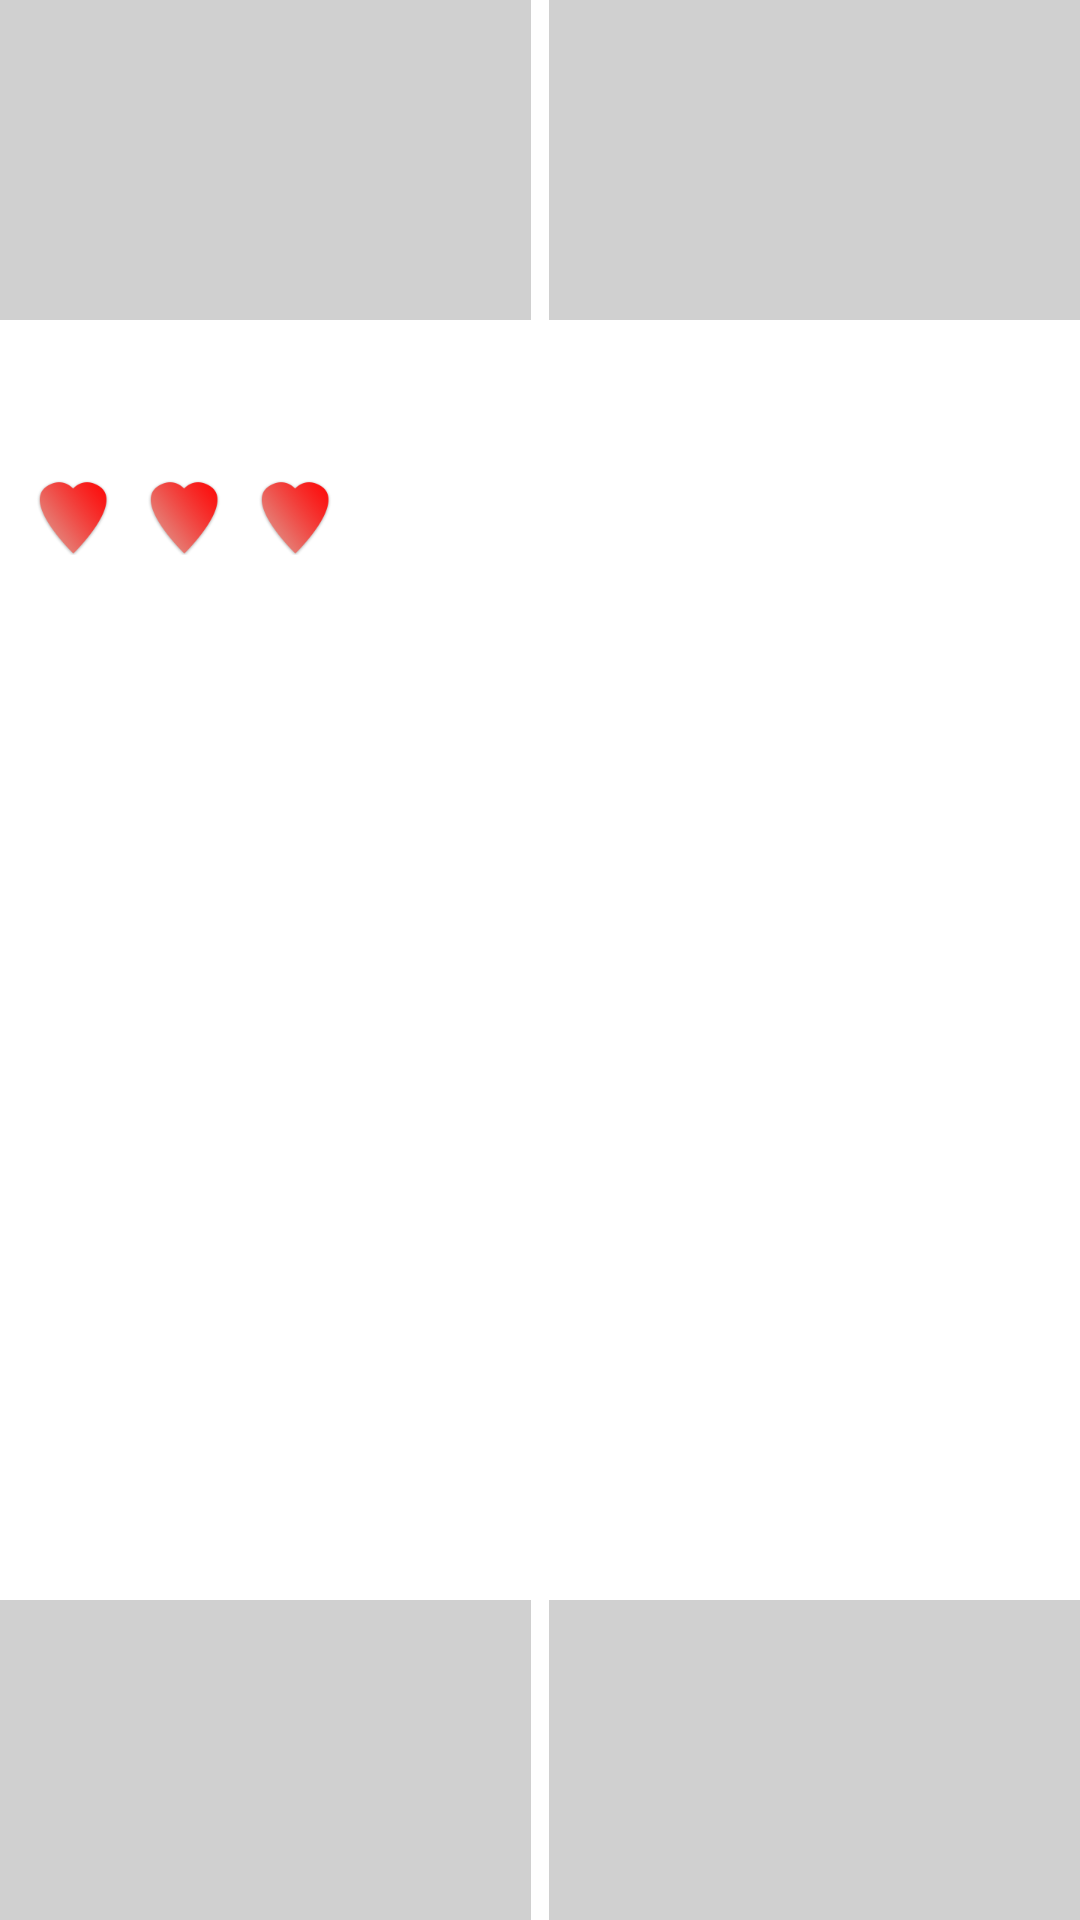

Screen size 1080x1920. Icon name, then its box in pixels as (x1, y1, x2, y2):
heart: (39, 482, 107, 554), (150, 482, 218, 554), (261, 482, 329, 554)
